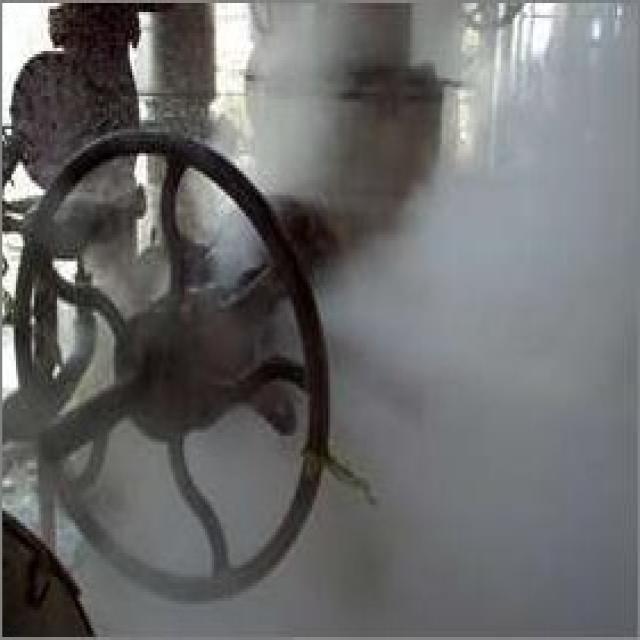smoke: (321, 78, 638, 553)
